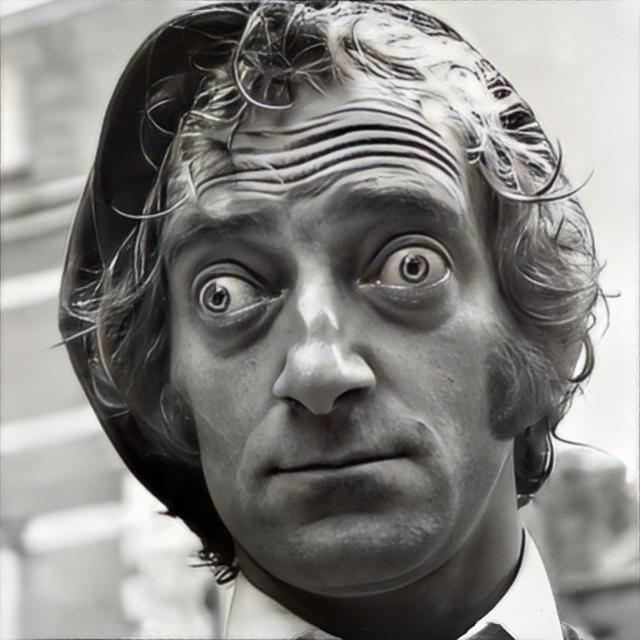Fear: (165, 101, 518, 584)
